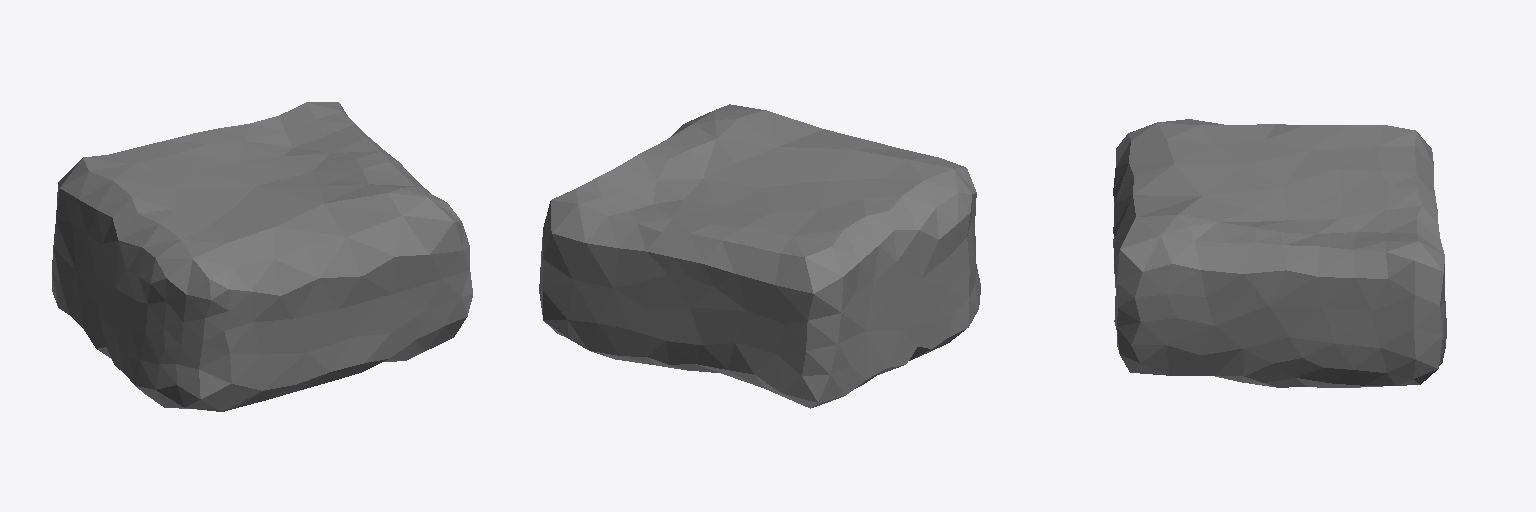
File: StonePlatform_E.obj
3 renders of one model, left to right at view 1: azimuth 30°, elevation 25°; view 2: azimuth 150°, elevation 25°; view 3: azimuth 270°, elevation 25°, orthographic.
Parts seen in each view (by area): view 1: Stone_E; view 2: Stone_E; view 3: Stone_E.
Boxes of the visible parts, box(x1,y1,x2,y2) form: Stone_E: box(52, 102, 472, 411); Stone_E: box(539, 104, 980, 408); Stone_E: box(1113, 119, 1446, 387).
Size of the model in its own units: 10.38 by 4.98 by 9.33.